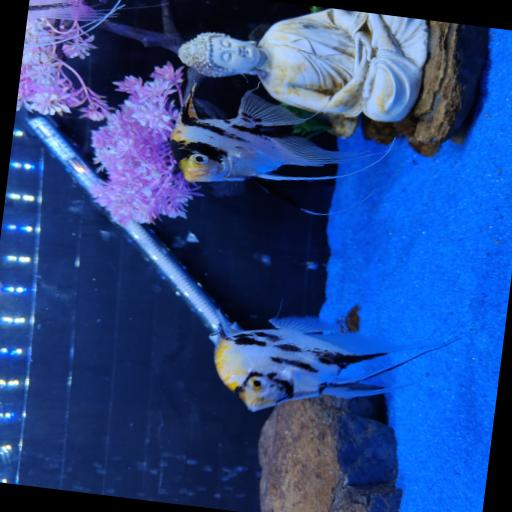Fish: (215, 316, 454, 410), (171, 86, 366, 181), (27, 0, 108, 21)
